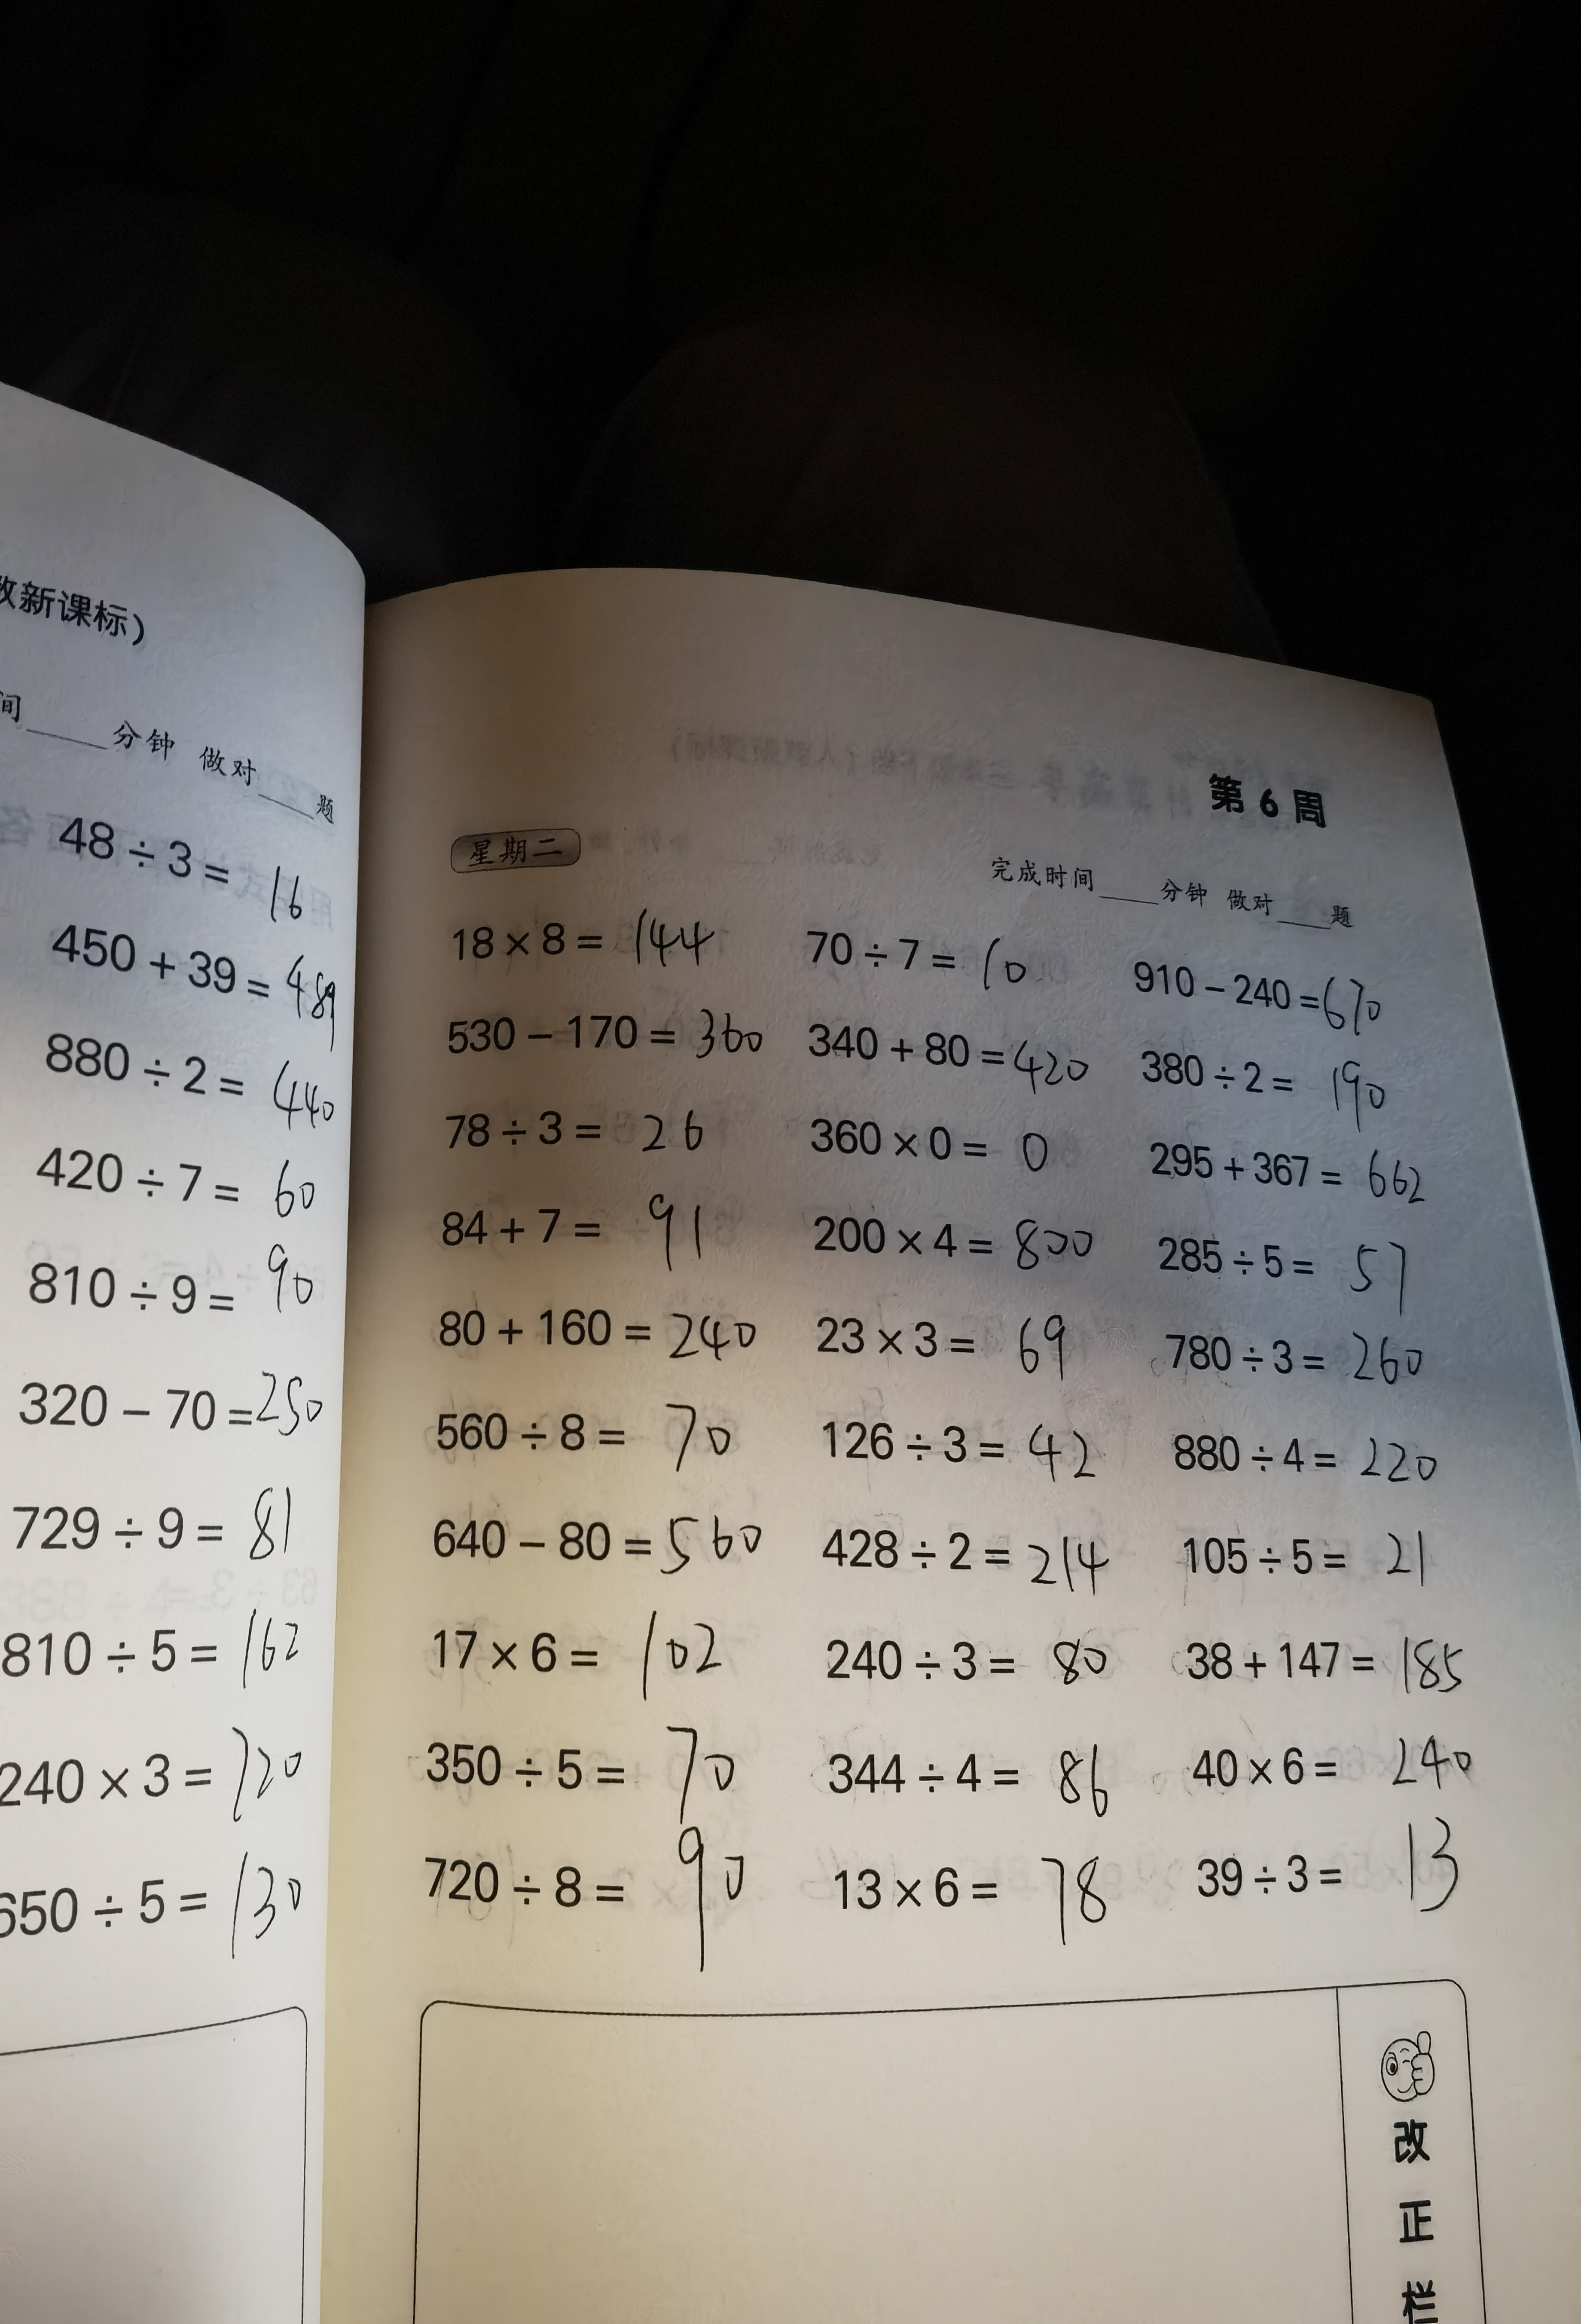equation: (411, 1823, 782, 1950), (402, 1717, 757, 1823), (798, 1721, 1140, 1826), (1172, 1810, 1496, 1918), (810, 1509, 1147, 1608), (799, 1286, 1135, 1383), (808, 1835, 1115, 1941), (806, 1399, 1120, 1500), (409, 1398, 771, 1482), (406, 1514, 801, 1588), (432, 1299, 776, 1383), (775, 1196, 1106, 1281), (806, 1015, 1105, 1108), (427, 1615, 753, 1699), (796, 905, 1046, 1008), (817, 1613, 1106, 1701), (1142, 1126, 1436, 1209), (1145, 1320, 1457, 1398), (1128, 949, 1389, 1041), (446, 1002, 764, 1076), (445, 895, 720, 979), (1159, 1417, 1447, 1496), (431, 1094, 736, 1168), (798, 1112, 1089, 1189), (1165, 1526, 1472, 1599), (439, 1189, 731, 1263), (1175, 1738, 1472, 1809), (1142, 1235, 1440, 1304), (1124, 1043, 1396, 1115), (1170, 1638, 1466, 1699)
